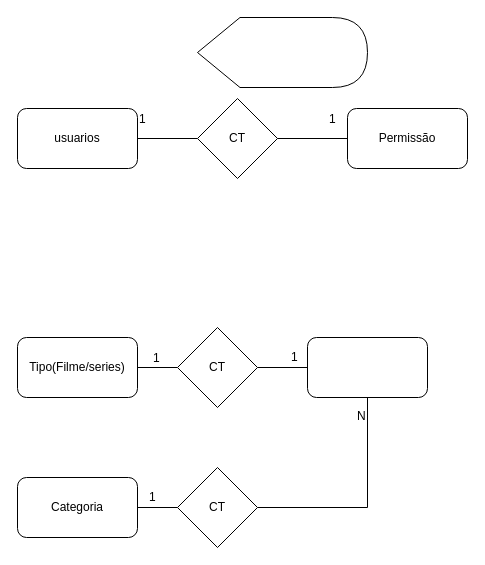
Some shapes in this 485 by 565 pixel diagram are drawn without their labels. The shapes that lost their labels are listed below. From the top down, each one's centre as x and y in pixels, then its label:
the point at 282,52: CONCEITUAL
the point at 367,367: Lançamentos
